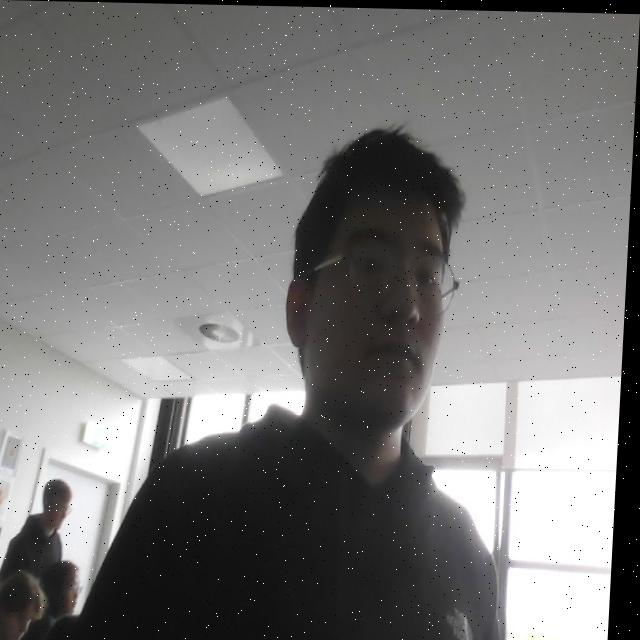opened_eye: (351, 249, 387, 282), (413, 263, 444, 292)
